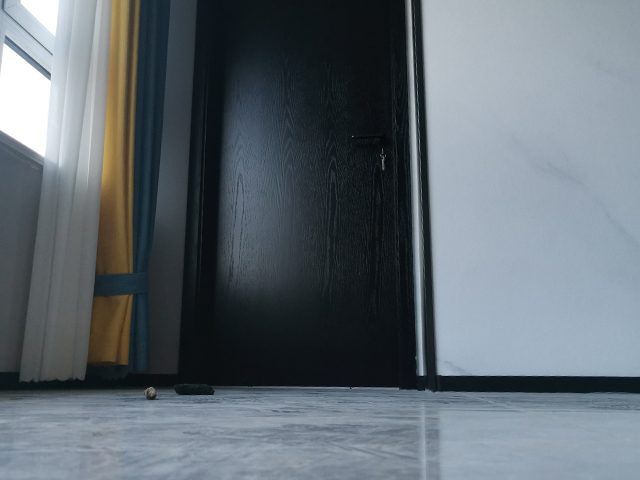curtain: (16, 1, 176, 386)
feces: (171, 383, 216, 396), (142, 386, 160, 401)
